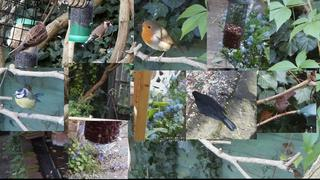blackbird: (192, 90, 237, 132)
blue tit: (13, 88, 44, 118)
dunnock: (274, 90, 296, 118)
goldfinch: (80, 20, 114, 49)
robin: (138, 20, 187, 64)
sparrow: (8, 20, 48, 59)
